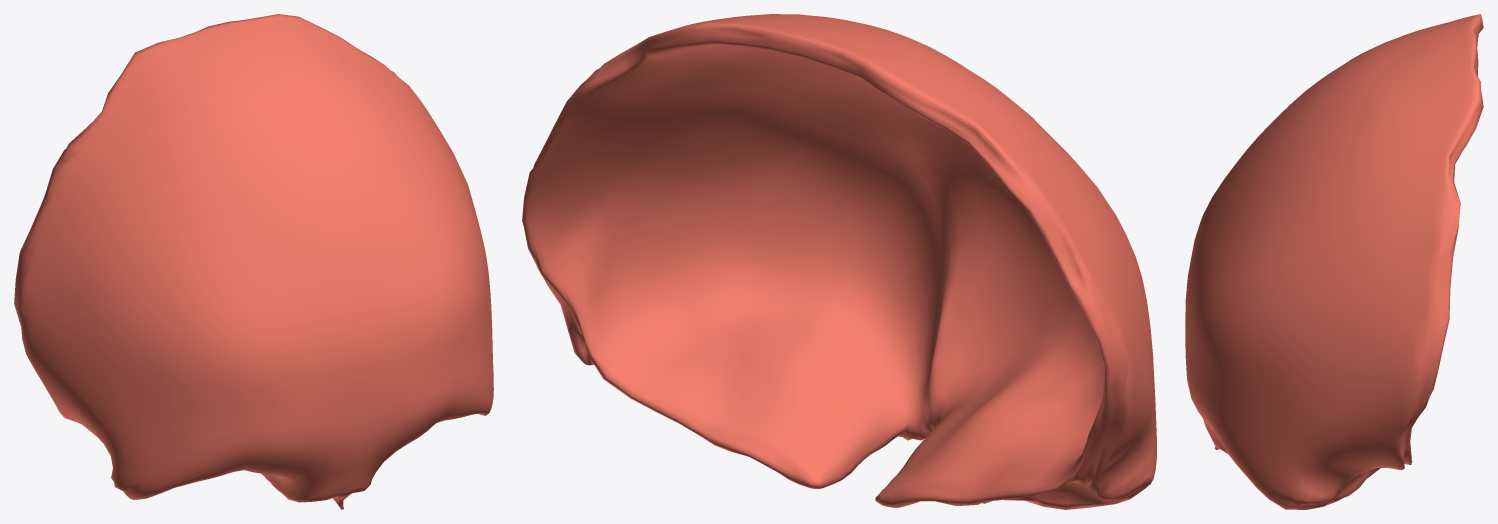
Rendered from Frontal.glb.
3 renders of one model, left to right at view 1: azimuth 30°, elevation 25°; view 2: azimuth 150°, elevation 25°; view 3: azimuth 270°, elevation 25°, orthographic. The views are drawn at different scales.
Visible parts, largest first — view 1: Frontal; view 2: Frontal; view 3: Frontal.
Part boxes in pixels (x1=…): Frontal: x1=14, y1=14, x2=493, y2=509; Frontal: x1=522, y1=14, x2=1156, y2=509; Frontal: x1=1185, y1=14, x2=1483, y2=509.
Size of the model in its own units: 0.1203 by 0.0998 by 0.0664.
